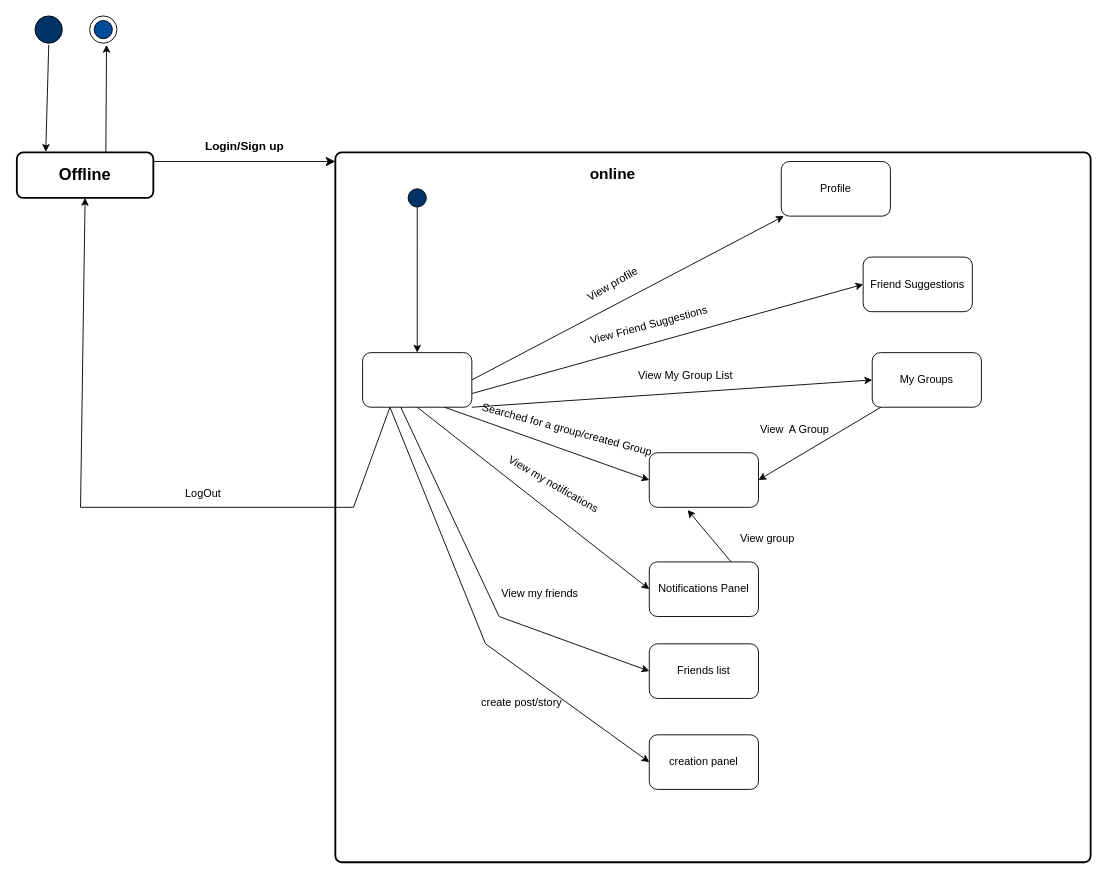
Image size: 1107x879. Some labels were removed from this diagram. The shapes that lost their labels are listed below. From the top down, each one's centre as x and y in pixels, then its label:
(417,379): Newsfeed
(703,479): Group
